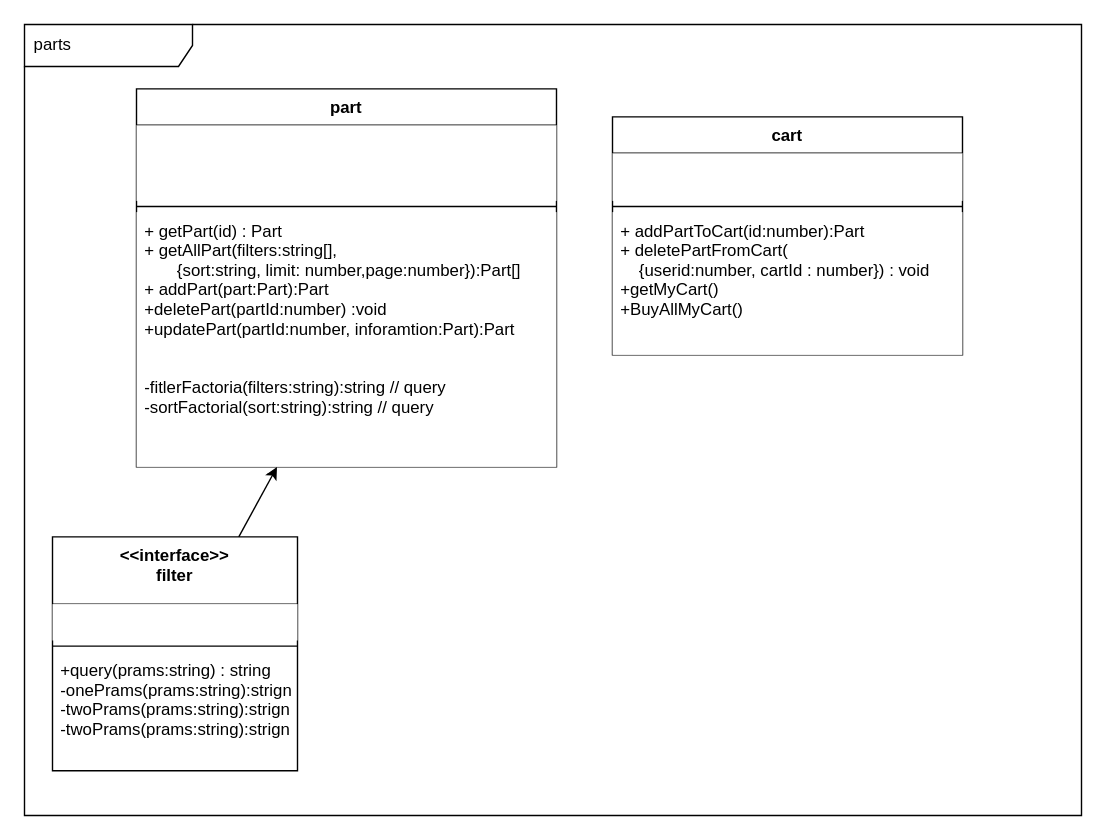
The diagram is 1106 pixels wide and 840 high, and some of its shapes have lost their labels. The shapes that lost their labels are listed below. From the top down, each one's box as (x1, y1, x2, y2) in pixels, then its label:
(136, 125, 556, 200): -model : partModel -allowedFileter : {string : filter}
(612, 153, 962, 200): -model : cartModle
(52, 603, 297, 640): + field: filerdName
